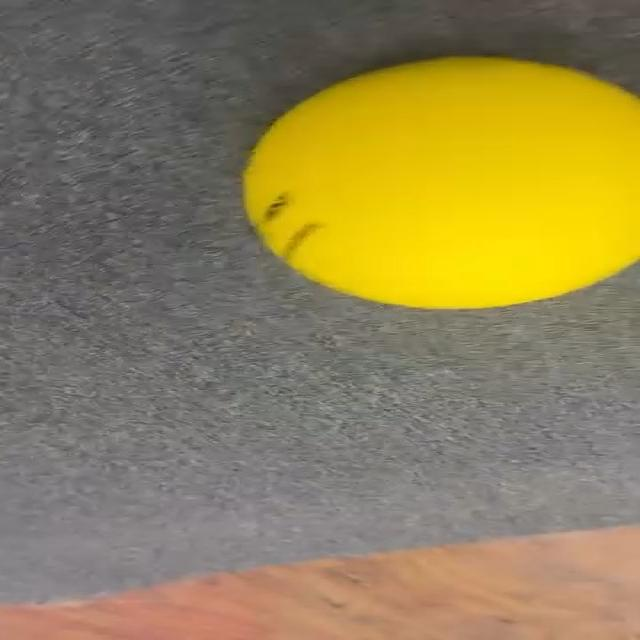Fuels: (242, 49, 640, 309)
